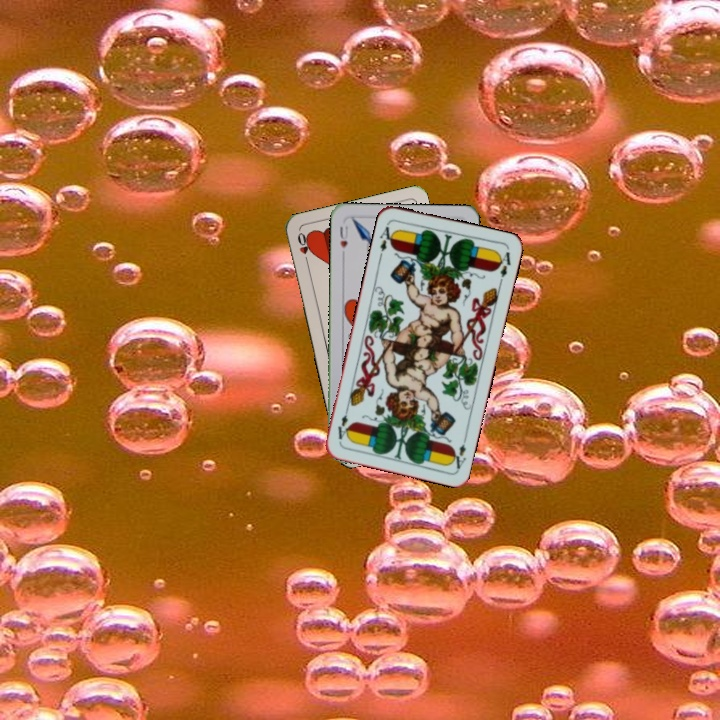EA: (376, 219, 398, 254), (447, 440, 469, 472)
HO: (293, 228, 312, 268)
HU: (336, 222, 351, 258)
